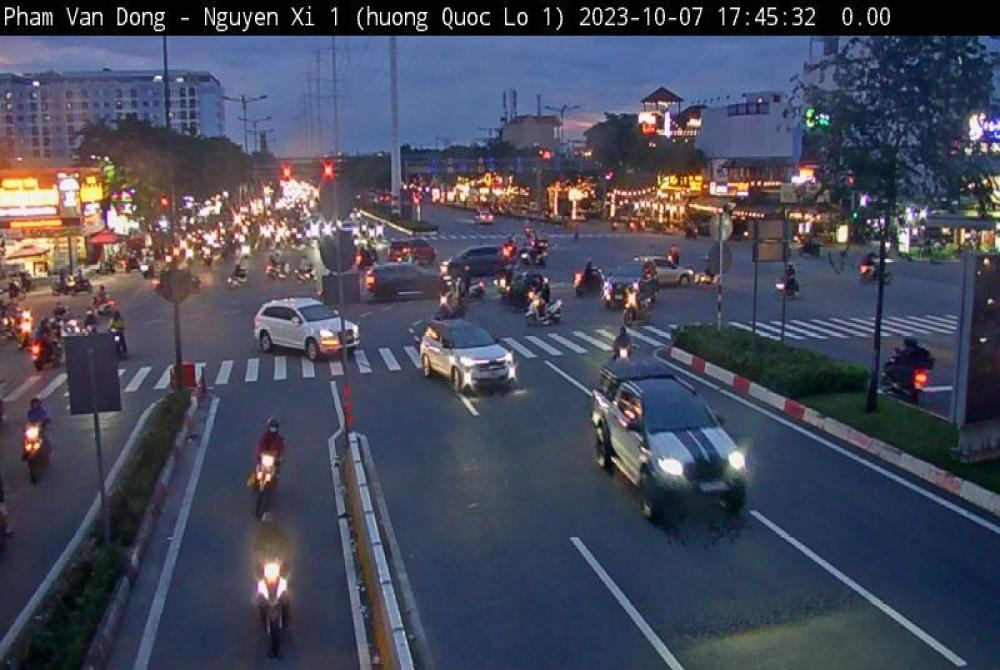car: (546, 344, 767, 546), (243, 285, 348, 384), (404, 316, 507, 397), (365, 255, 456, 311), (625, 245, 686, 311), (447, 240, 523, 292), (607, 256, 662, 326)
motorbike: (201, 438, 287, 538), (239, 552, 314, 652)
